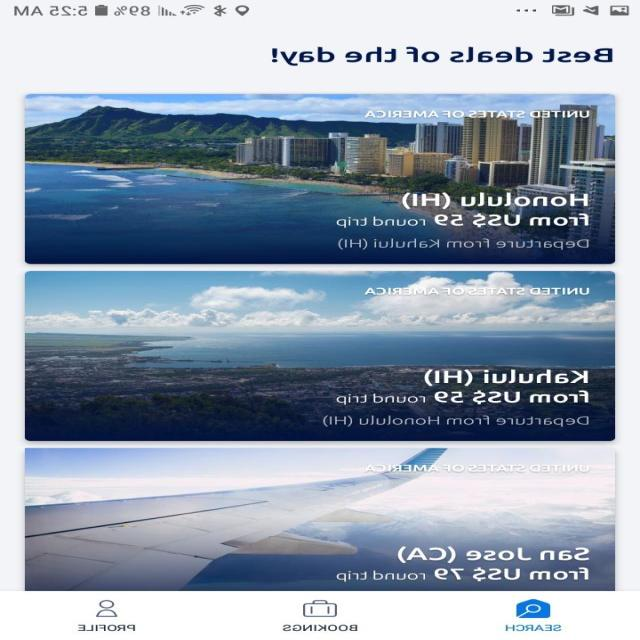Icon: (516, 598, 552, 618), (303, 599, 338, 616), (96, 599, 118, 617)
Image: (26, 270, 616, 441), (25, 94, 615, 264), (25, 447, 616, 591)
Text: (336, 192, 590, 228), (336, 546, 590, 582), (336, 369, 590, 404), (272, 46, 614, 66), (323, 415, 589, 427), (338, 238, 589, 250), (364, 110, 590, 118), (364, 287, 590, 295), (364, 464, 590, 472), (283, 624, 358, 631), (78, 624, 136, 631), (506, 624, 562, 631)
